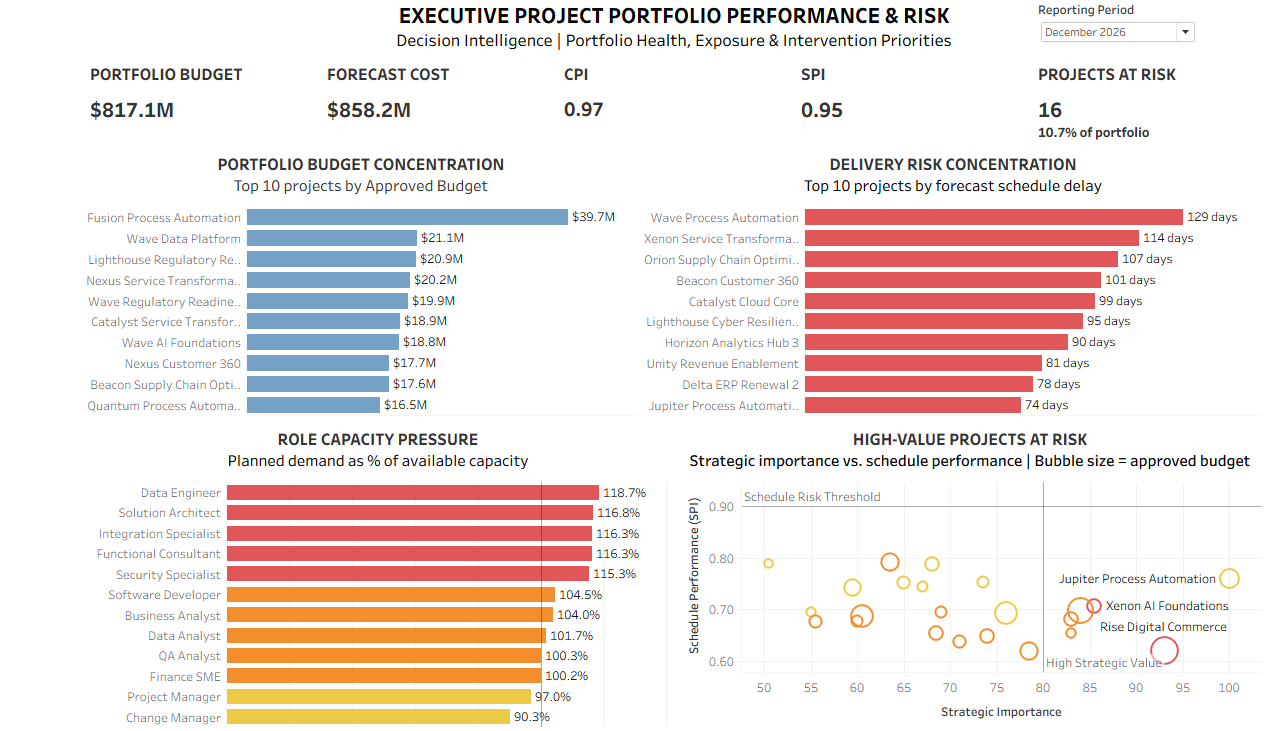

What the dashboard file says about the page in this screenshot:
{"tool":"tableau","page":{"name":"Dashboard 1 - Executive Portfolio Decision View","canvas":[1200,800],"ordinal":0},"visuals":[{"type":"text","box":[8,8,1184,51]},{"type":"filter","title":"VIZ 01 - Budget Concentration","param":"[federated.0er2hqo1sj7gsy13t76lx1l9st0q].[my:period_start_date:ok]","box":[964,13,160,44]},{"type":"worksheet","title":"KPI 01 - Portfolio Budget","mark":"Automatic","box":[8,59,237,82]},{"type":"worksheet","title":"KPI 02 - Forecast Cost","mark":"Automatic","box":[245,59,237,82]},{"type":"worksheet","title":"KPI 03 - CPI","mark":"Automatic","box":[482,59,237,82]},{"type":"worksheet","title":"KPI 04 - SPI","mark":"Automatic","box":[719,59,237,82]},{"type":"worksheet","title":"KPI 05 - Projects at Risk","mark":"Automatic","box":[956,59,236,82]},{"type":"worksheet","title":"VIZ 01 - Budget Concentration","mark":"Automatic","rows":["project_name"],"cols":["approved_budget"],"box":[8,141,550,275]},{"type":"worksheet","title":"VIZ 02 - Delivery Risk Concentration","mark":"Automatic","rows":["project_name"],"cols":["schedule_delay_days"],"box":[558,141,634,275]},{"type":"worksheet","title":"VIZ 03 - Role Capacity Pressure","mark":"Automatic","rows":["role_name"],"cols":["utilization_pct"],"box":[8,416,584,311]},{"type":"worksheet","title":"VIZ 04 - High-Value Projects at Risk","mark":"Automatic","rows":["spi"],"cols":["strategic_importance_score"],"box":[592,416,600,311]}]}

Visuals, with their boxes on the page's 1200x800 design canvas (x1, y1, x2, y2). These are canvas units, not pixel positions in the 1279x731 screenshot, which may show the page scaled, cropped or inside an application window:
text: 8:8:1192:59
"VIZ 01 - Budget Concentration" filter: 964:13:1124:57
"KPI 01 - Portfolio Budget" worksheet: 8:59:245:141
"KPI 02 - Forecast Cost" worksheet: 245:59:482:141
"KPI 03 - CPI" worksheet: 482:59:719:141
"KPI 04 - SPI" worksheet: 719:59:956:141
"KPI 05 - Projects at Risk" worksheet: 956:59:1192:141
"VIZ 01 - Budget Concentration" worksheet: 8:141:558:416
"VIZ 02 - Delivery Risk Concentration" worksheet: 558:141:1192:416
"VIZ 03 - Role Capacity Pressure" worksheet: 8:416:592:727
"VIZ 04 - High-Value Projects at Risk" worksheet: 592:416:1192:727
